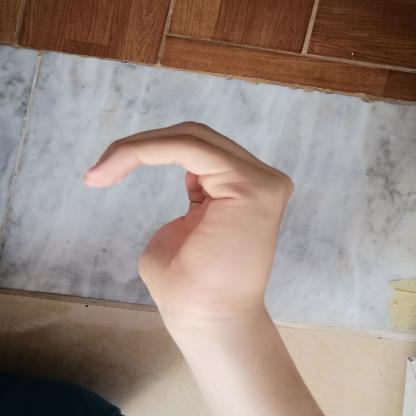HAA: (61, 112, 310, 328)
